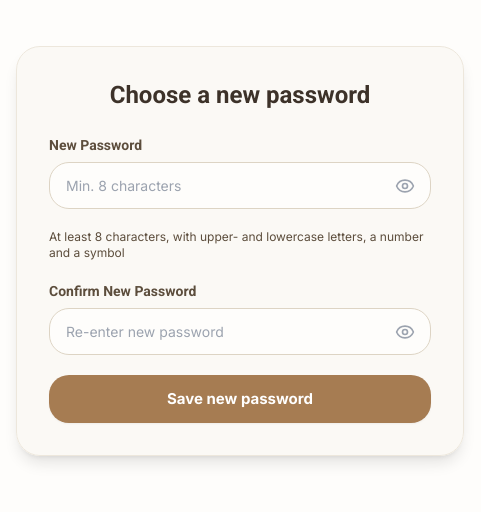
Test: ResetPasswordPage › refuses a password that breaks the rule
Type "newpass1" into the password field with placeholder "Min. 8 characters" at {"x": 240, "y": 186}, box [49,162,431,209]
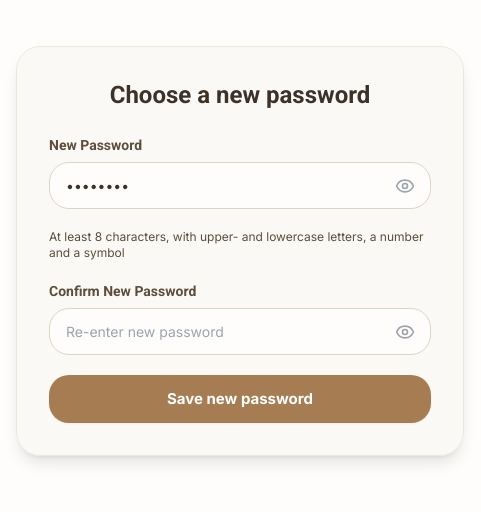
Type "newpass1" into the password field with placeholder "Re-enter new password" at {"x": 240, "y": 332}, box [49,308,431,355]
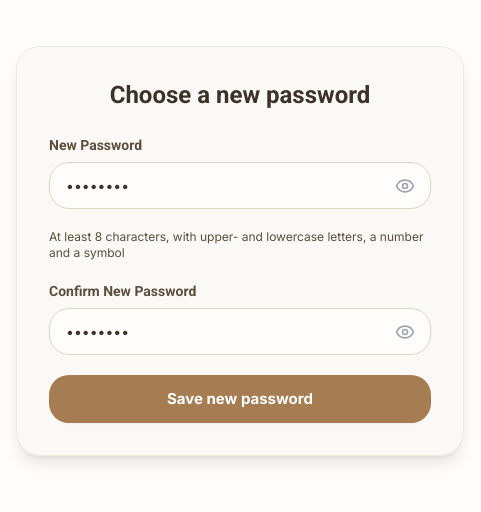
Click the button "Save new password" at {"x": 240, "y": 399}, box [49,375,431,423]
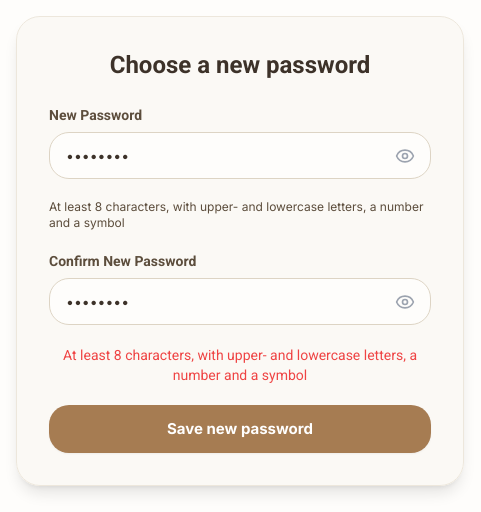
Expected: the 2nd text "At least 8 characters, with upper- and lowercase letters, a number and a symbol" is shown, [49,345,431,385]
